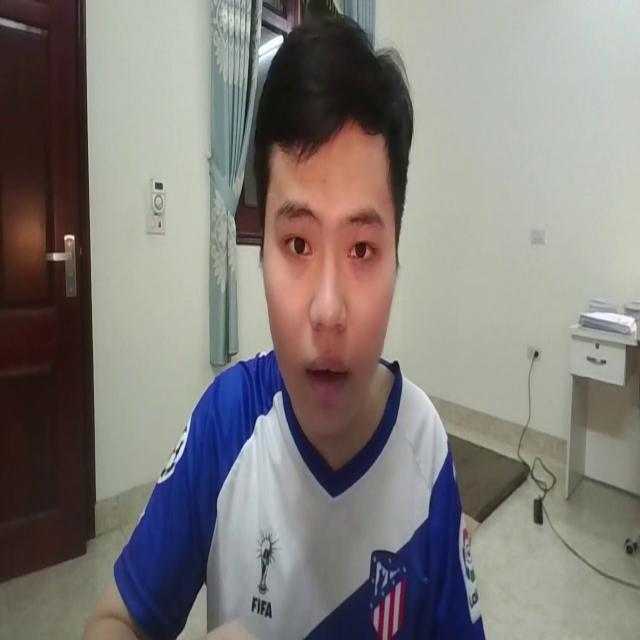student: (91, 9, 493, 640)
